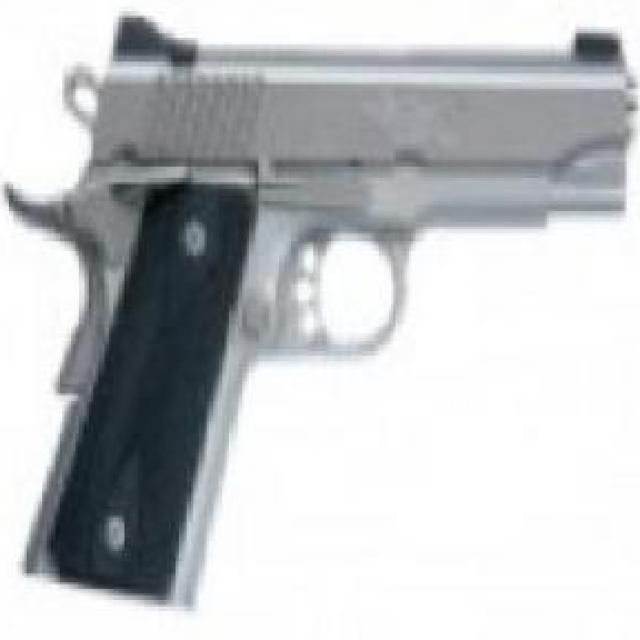pistol: (4, 22, 638, 610)
